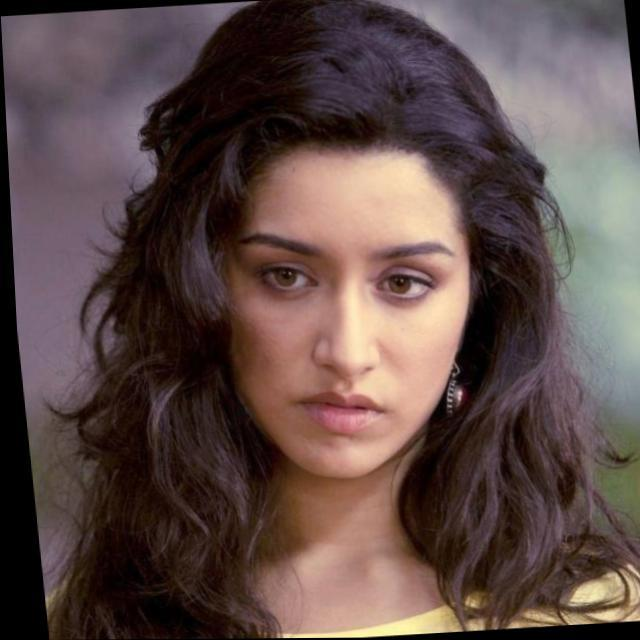Nonhelmet: (181, 78, 504, 500)
